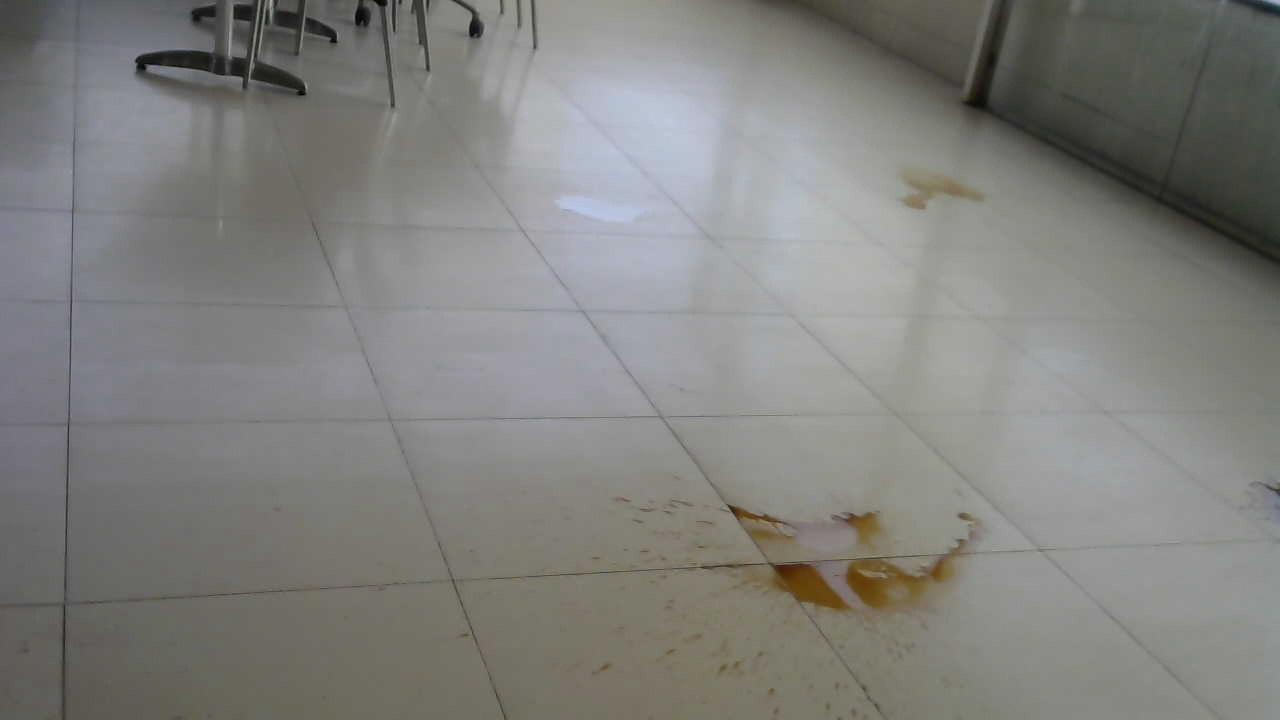dirty_floor: (607, 483, 995, 708), (889, 159, 993, 218), (550, 189, 649, 227)
